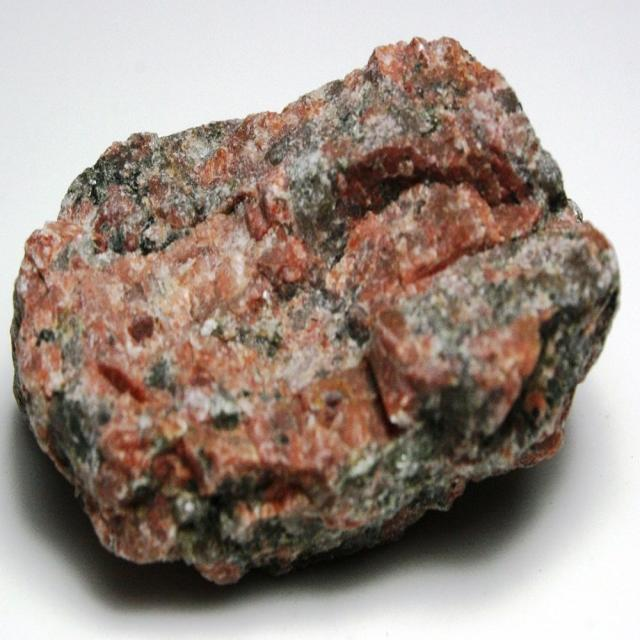Igneous: (9, 30, 622, 608)
